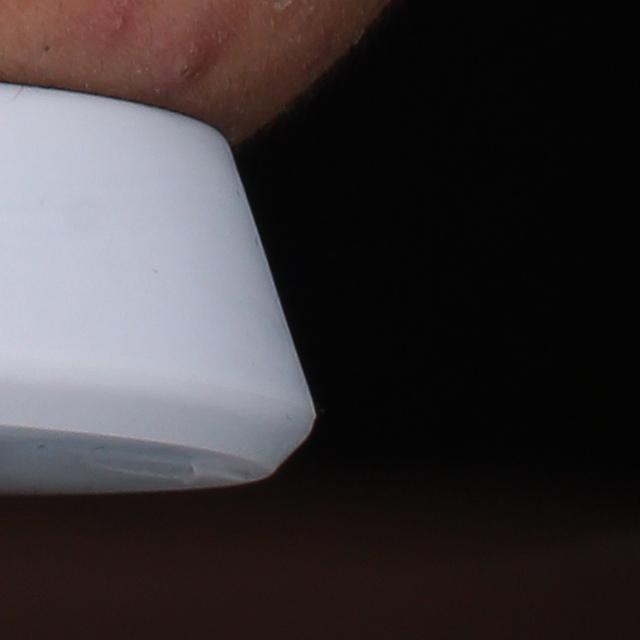papule: (150, 26, 222, 87)
